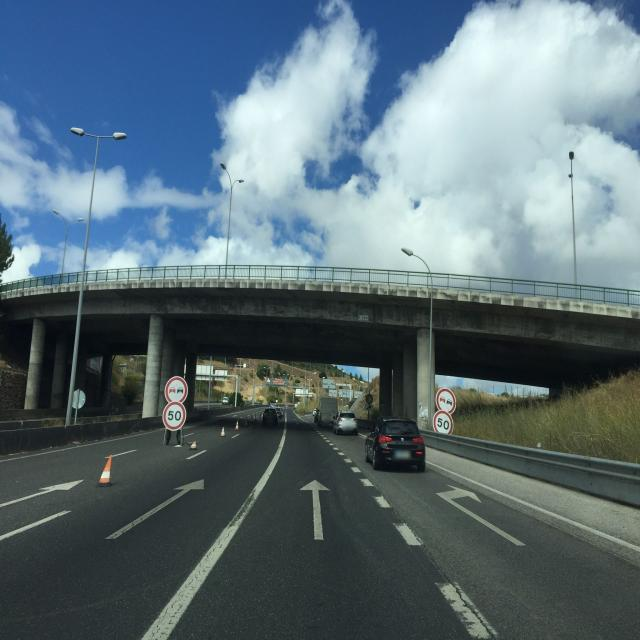car: (365, 416, 426, 472), (333, 410, 358, 435), (262, 407, 278, 426), (275, 405, 286, 420), (222, 396, 230, 405)
